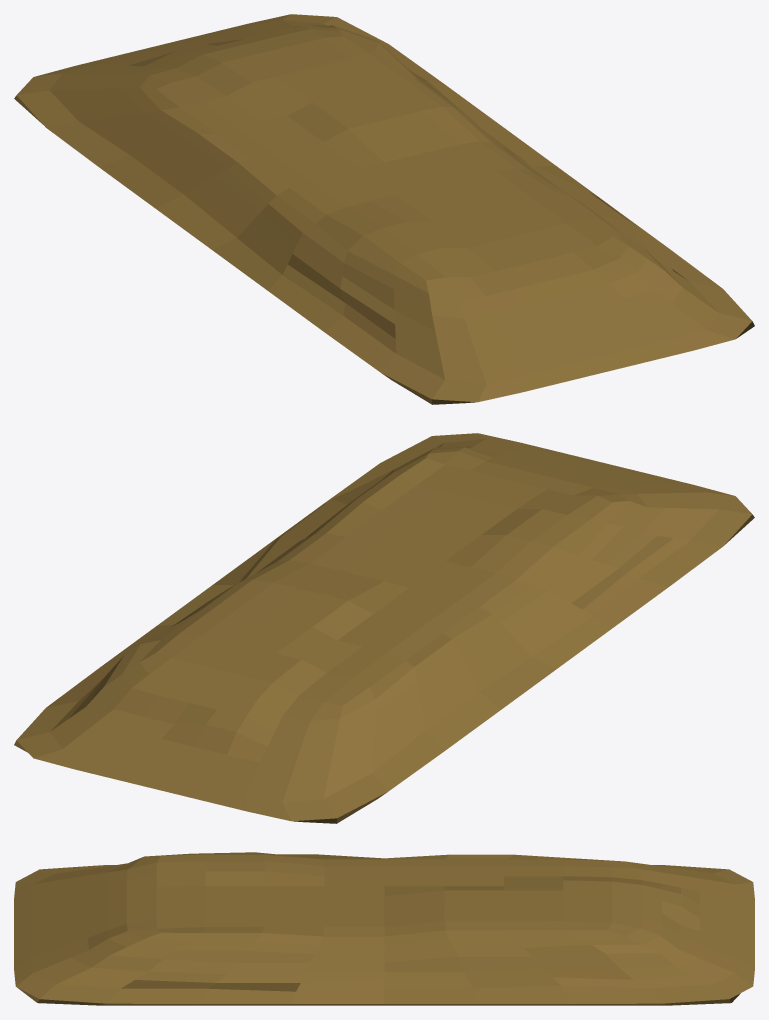
File: Sand.fbx
The picture shows the model from 3 angles, top to bottom: view 1: azimuth 30°, elevation 25°; view 2: azimuth 150°, elevation 25°; view 3: azimuth 270°, elevation 25°; orthographic projection. The views are drawn at different scales.
Visible parts, largest first — view 1: Cube; view 2: Cube; view 3: Cube.
Part boxes in pixels (bbox=[...]): Cube: bbox=[14, 14, 754, 404]; Cube: bbox=[14, 433, 754, 823]; Cube: bbox=[14, 852, 754, 1005].
Size of the model in its own units: 1378 by 228 by 3093.
